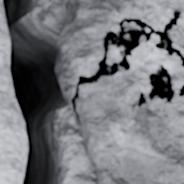brick: (76, 35, 183, 183), (59, 0, 183, 97), (0, 0, 26, 183), (169, 14, 183, 54)
crack: (1, 0, 183, 183), (132, 64, 183, 107)
